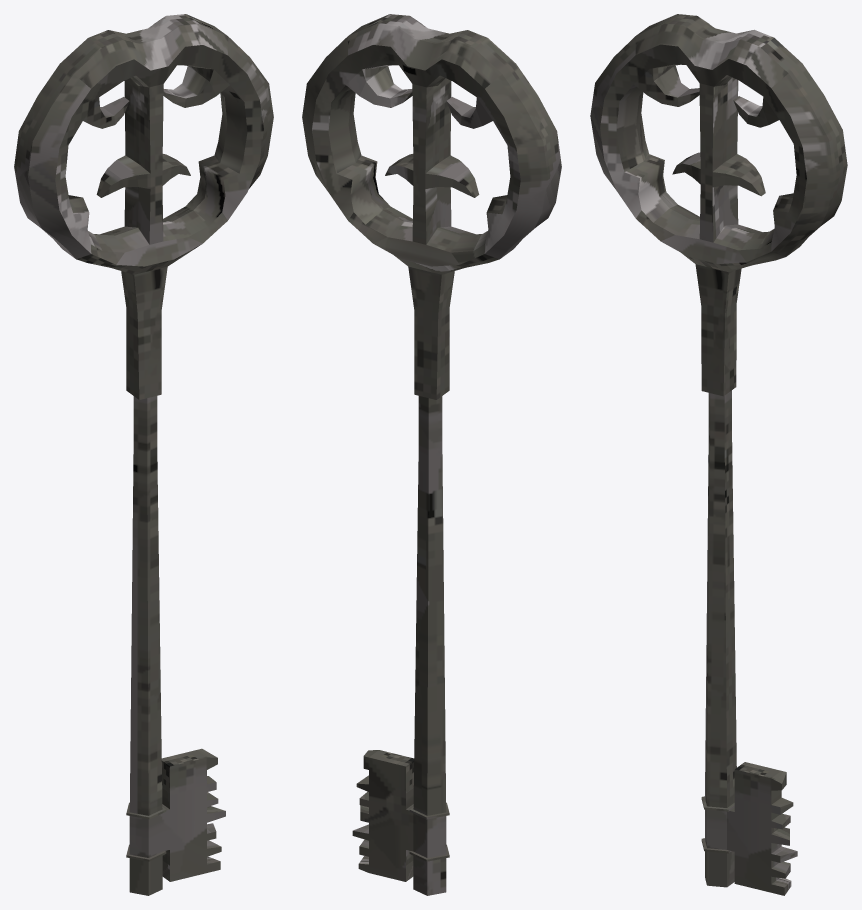
Rendered from key01.glb.
The picture shows the model from 3 angles, left to right: view 1: azimuth 30°, elevation 25°; view 2: azimuth 150°, elevation 25°; view 3: azimuth 330°, elevation 25°; orthographic projection.
Visible parts, largest first — view 1: chave_02_low1; view 2: chave_02_low1; view 3: chave_02_low1.
Part boxes in pixels (x1,y1,x2,y2): chave_02_low1: (14,14,273,895); chave_02_low1: (302,14,561,895); chave_02_low1: (590,14,847,895).
Bounding box in the file's own units: 0.0637 × 0.2143 × 0.014.
1 material, 1 textured.
